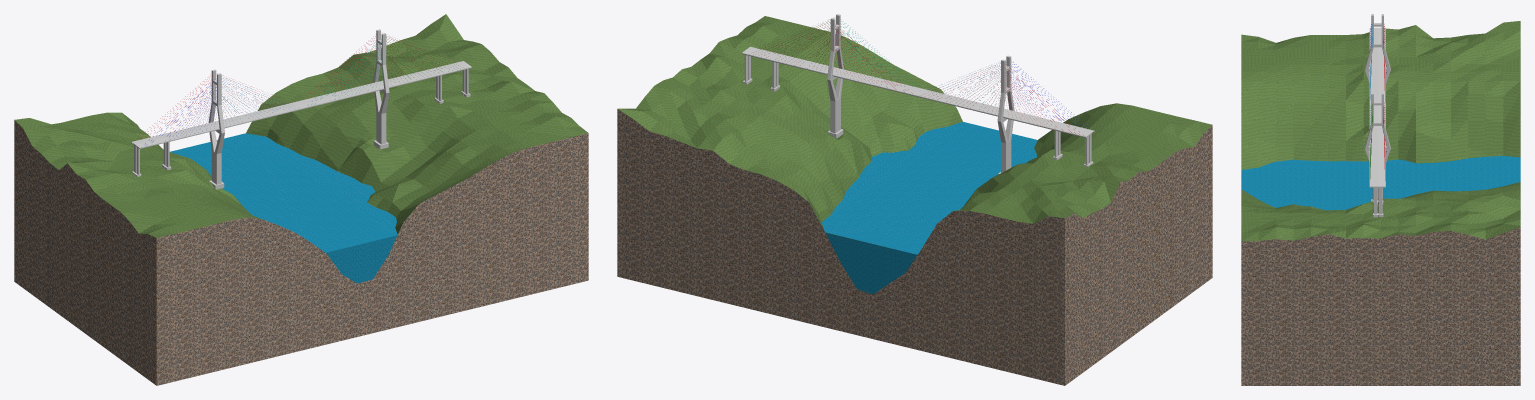
Rendered from wujiang.glb.
The picture shows the model from 3 angles, left to right: view 1: azimuth 30°, elevation 25°; view 2: azimuth 150°, elevation 25°; view 3: azimuth 270°, elevation 25°; orthographic projection. The views are drawn at different scales.
Visible parts, largest first — view 1: root; view 2: root; view 3: root.
Part boxes in pixels (x1,y1,x2,y2): root: (14, 14, 588, 385); root: (617, 14, 1212, 385); root: (1241, 14, 1520, 385).
Size of the model in its own units: 84 by 42.95 by 48.
Materials: 88 (3 with a texture image).
